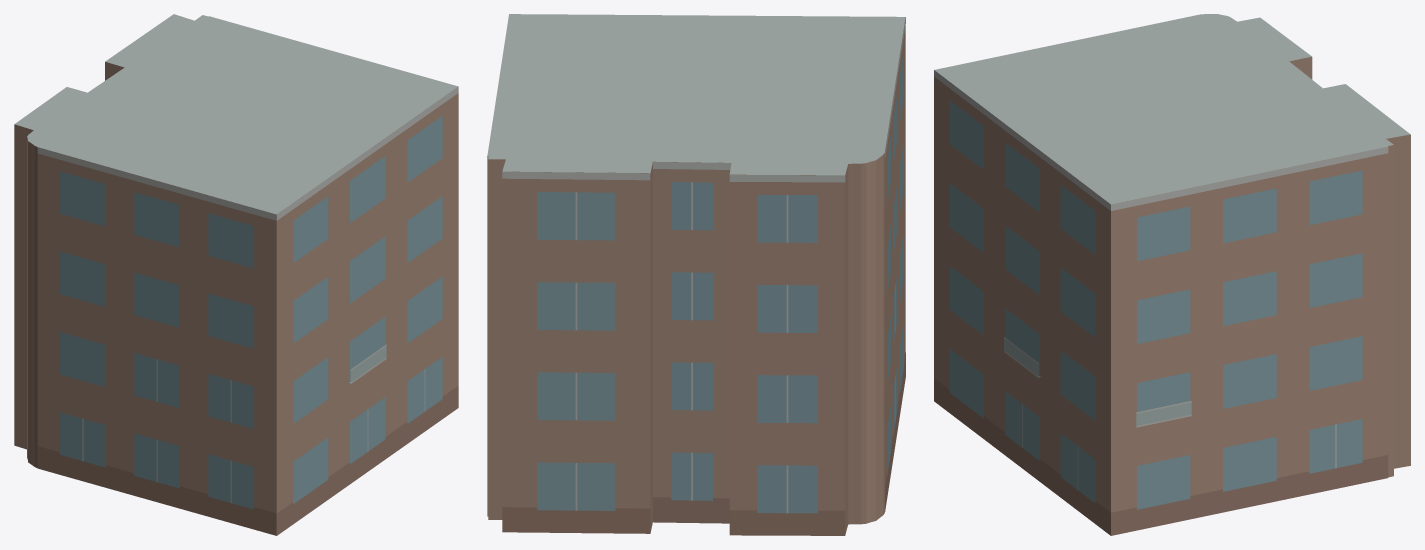
Rendered from survey-upis-32835894.glb.
3 renders of one model, left to right at view 1: azimuth 30°, elevation 25°; view 2: azimuth 150°, elevation 25°; view 3: azimuth 270°, elevation 25°, orthographic. The views are drawn at different scales.
Visible parts, largest first — view 1: survey-upis-32835894.tmp; view 2: survey-upis-32835894.tmp; view 3: survey-upis-32835894.tmp.
Boxes of the visible parts, <box> form: survey-upis-32835894.tmp: <box>14,14,458,535</box>; survey-upis-32835894.tmp: <box>487,14,905,535</box>; survey-upis-32835894.tmp: <box>934,14,1410,535</box>.
Bounding box in the file's own units: 15.18 × 12.3 × 16.05.
